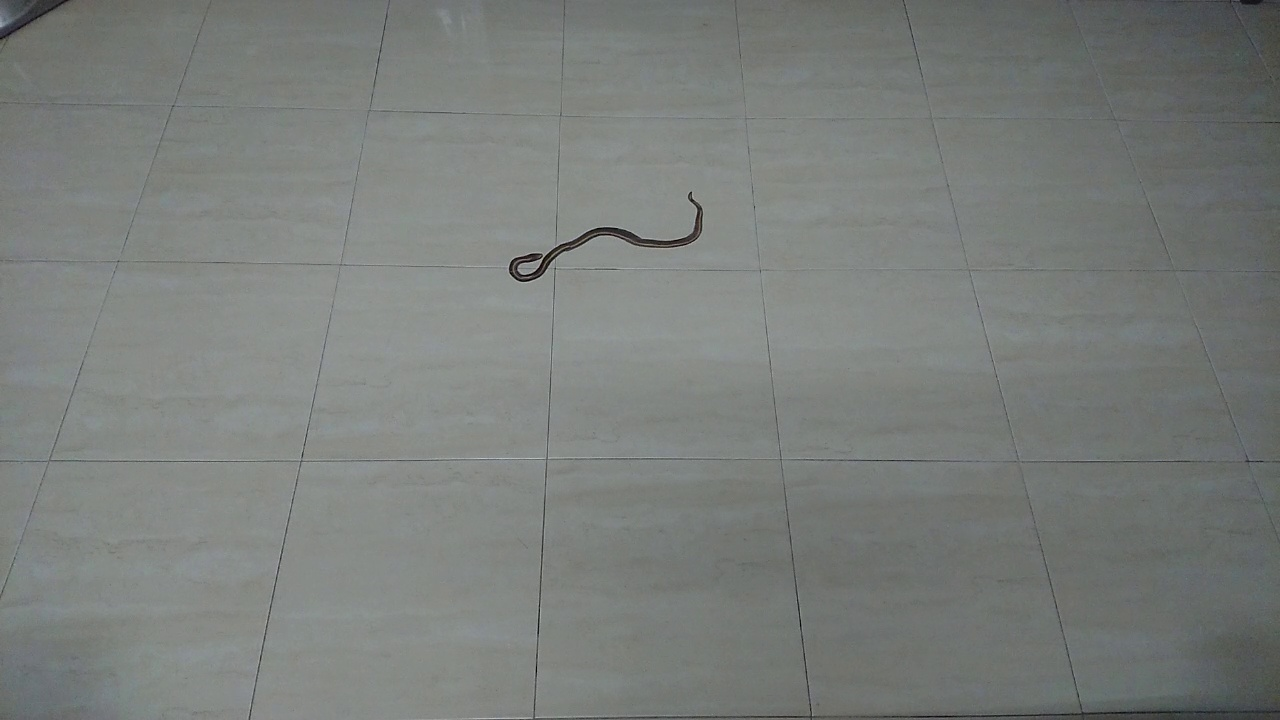snake: (487, 178, 714, 294)
